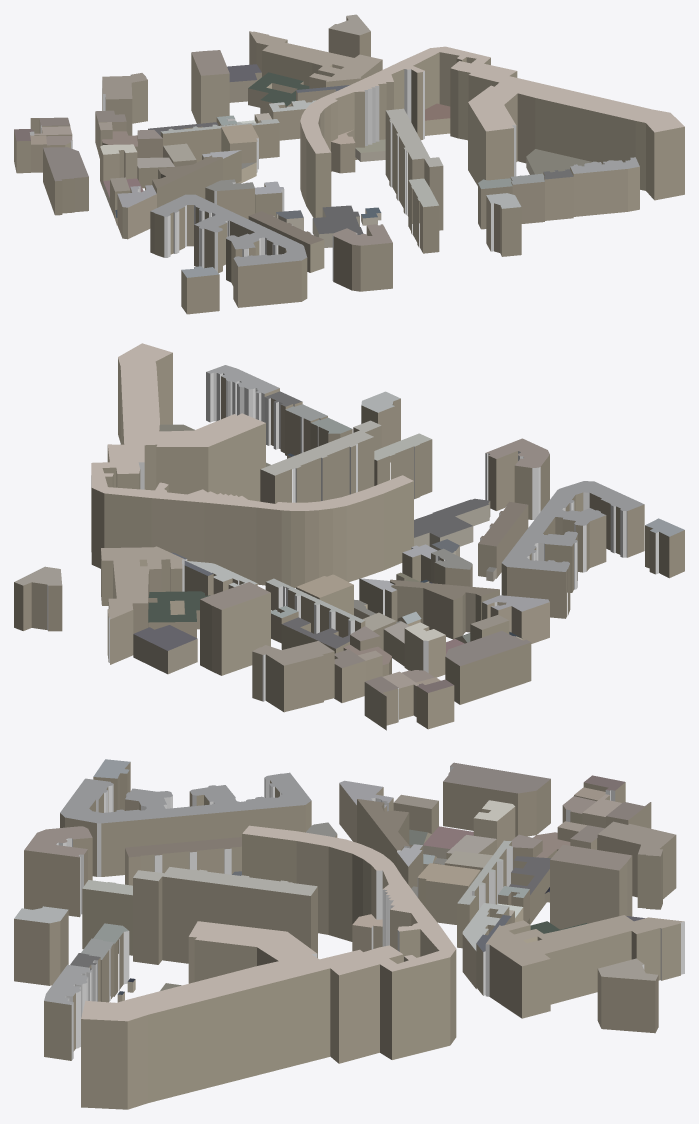
The picture shows the model from 3 angles, top to bottom: view 1: azimuth 30°, elevation 25°; view 2: azimuth 150°, elevation 25°; view 3: azimuth 270°, elevation 25°; orthographic projection. The views are drawn at different scales.
Parts seen in each view (by area): view 1: tuile; view 2: tuile; view 3: tuile.
Boxes of the visible parts, x1,y1,x2,y2 form: tuile: [14, 14, 684, 314]; tuile: [14, 343, 684, 730]; tuile: [14, 759, 684, 1109].
Bounding box in the file's own units: 305 × 45.07 × 277.
